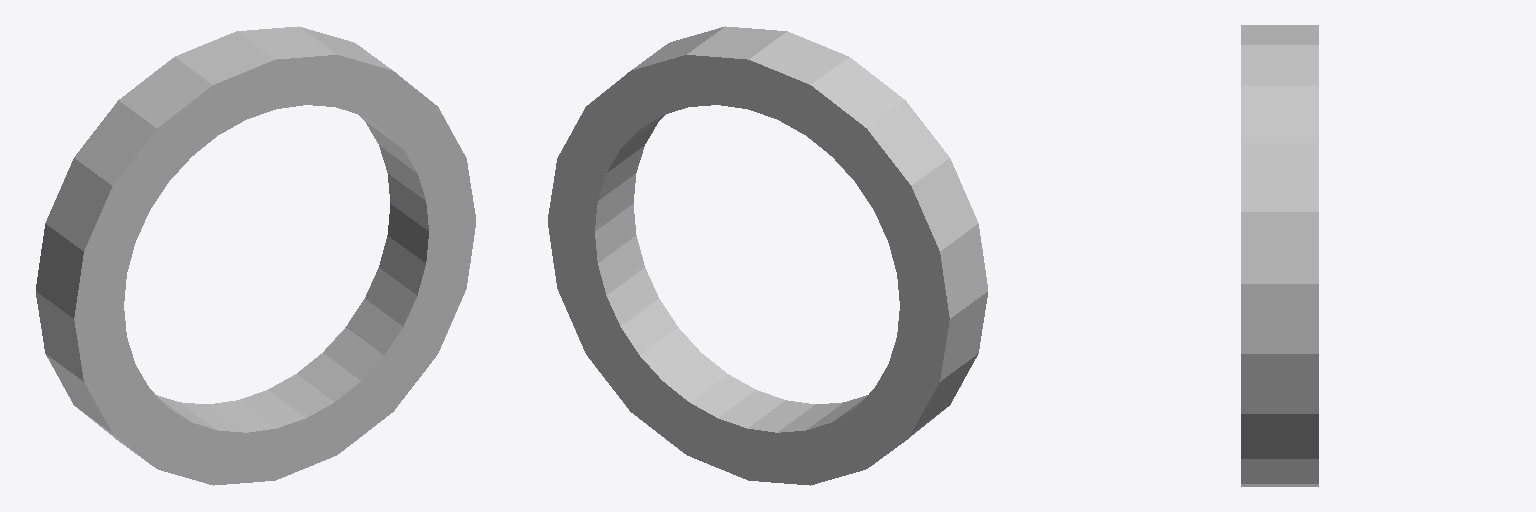
Rendered from CementGrower_01.obj.
The picture shows the model from 3 angles: view 1: azimuth 30°, elevation 25°; view 2: azimuth 150°, elevation 25°; view 3: azimuth 270°, elevation 25°; orthographic projection.
Visible parts, largest first — view 1: obj_0; view 2: obj_0; view 3: obj_0.
Part boxes in pixels (bbox=[...]): obj_0: bbox=[36, 26, 475, 485]; obj_0: bbox=[548, 26, 987, 485]; obj_0: bbox=[1241, 25, 1318, 486].
Size of the model in its own units: 30 by 30 by 5.